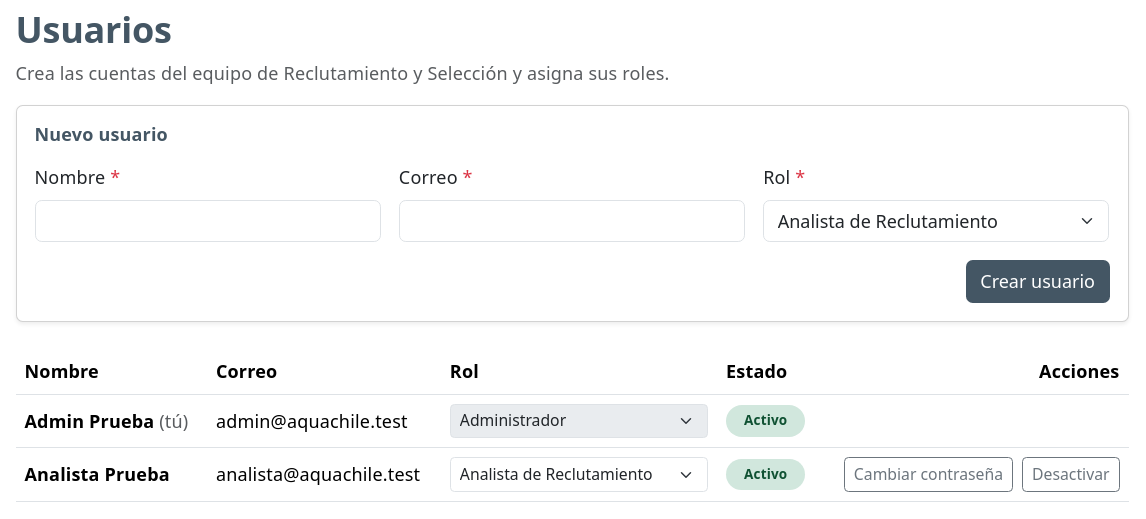
Test: Usuarios › desactiva a otro usuario
Expected: the text "analista@aquachile.test" is shown, [207,448,441,502]
Click the button "Desactivar" at (1071, 475), box [1022,457,1120,492]
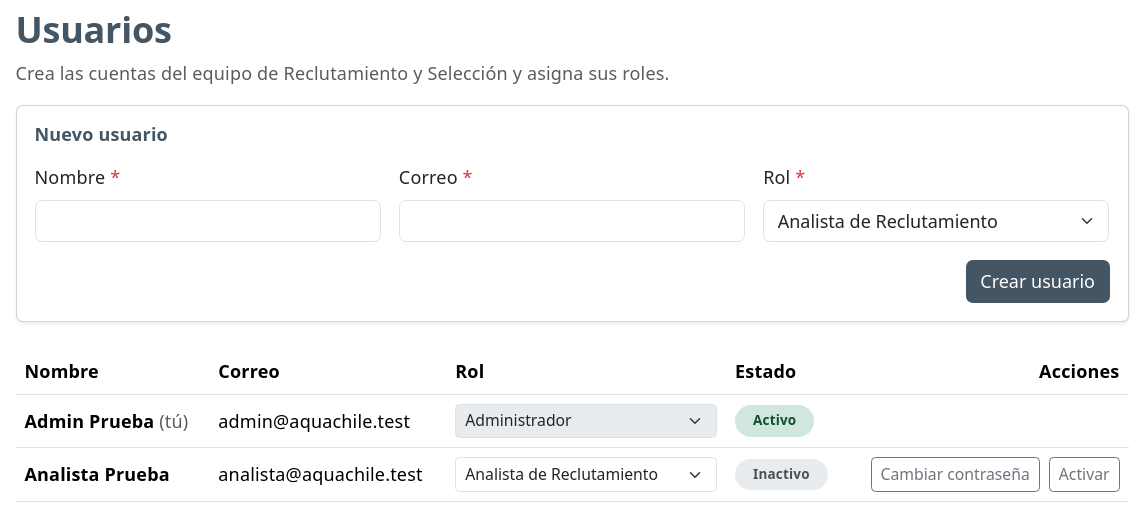
Expected: the text "Inactivo" is shown, [735,459,828,490]
